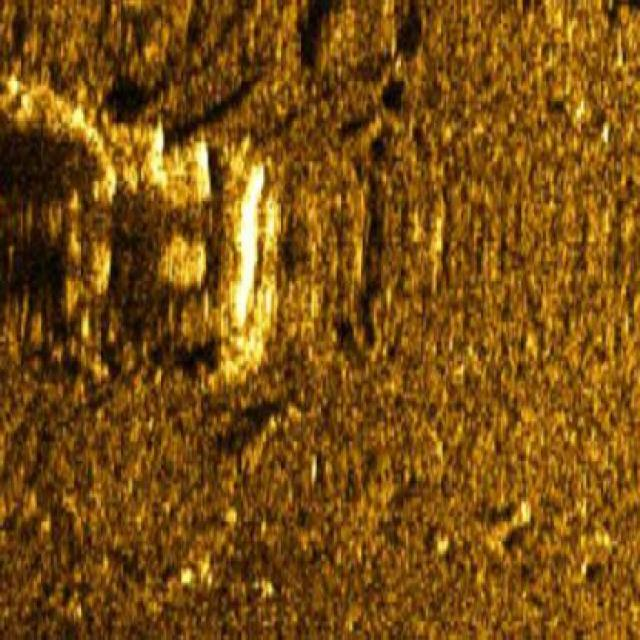bedrock group: (1, 73, 284, 376)
